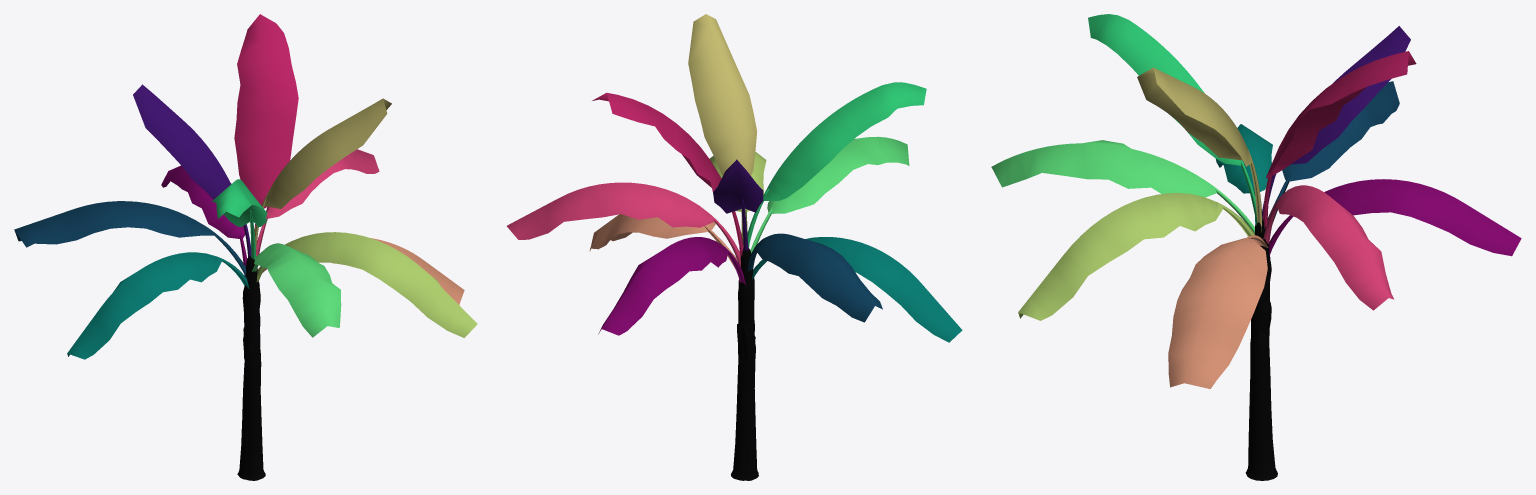
The model's file is SM_Tree_Banana_01.fbx.
3 renders of one model, left to right at view 1: azimuth 30°, elevation 25°; view 2: azimuth 150°, elevation 25°; view 3: azimuth 270°, elevation 25°, orthographic. The views are drawn at different scales.
Parts seen in each view (by area): view 1: SM_Tree_Banana_01_LOD0; view 2: SM_Tree_Banana_01_LOD0; view 3: SM_Tree_Banana_01_LOD0.
Part boxes in pixels (left/top/right/bottom): SM_Tree_Banana_01_LOD0: left=14, top=14, right=477, bottom=480; SM_Tree_Banana_01_LOD0: left=507, top=14, right=962, bottom=480; SM_Tree_Banana_01_LOD0: left=991, top=14, right=1521, bottom=480.
Size of the model in its own units: 800 by 837 by 807.
